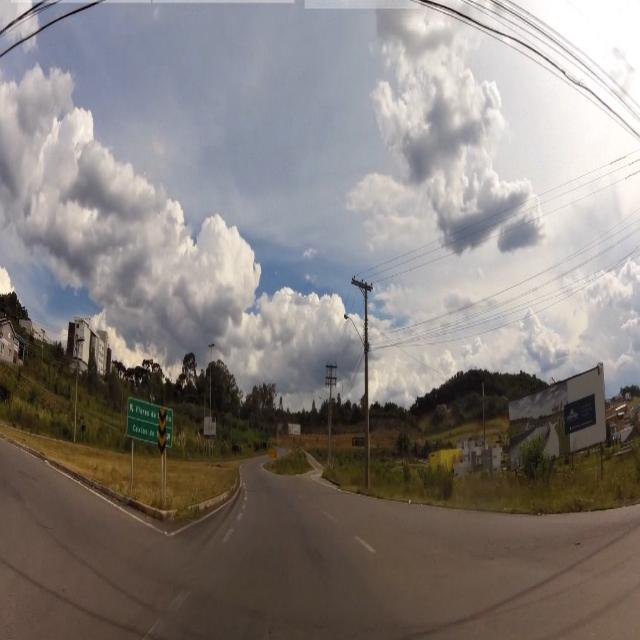MP: (159, 409, 167, 456)
